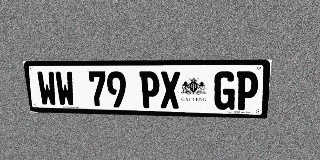7: (87, 71, 108, 107)
9: (106, 71, 127, 108)
G: (213, 71, 236, 110)
P: (235, 71, 259, 110), (139, 71, 160, 108)
W: (54, 71, 76, 107), (36, 71, 58, 106)
X: (160, 71, 180, 109)
